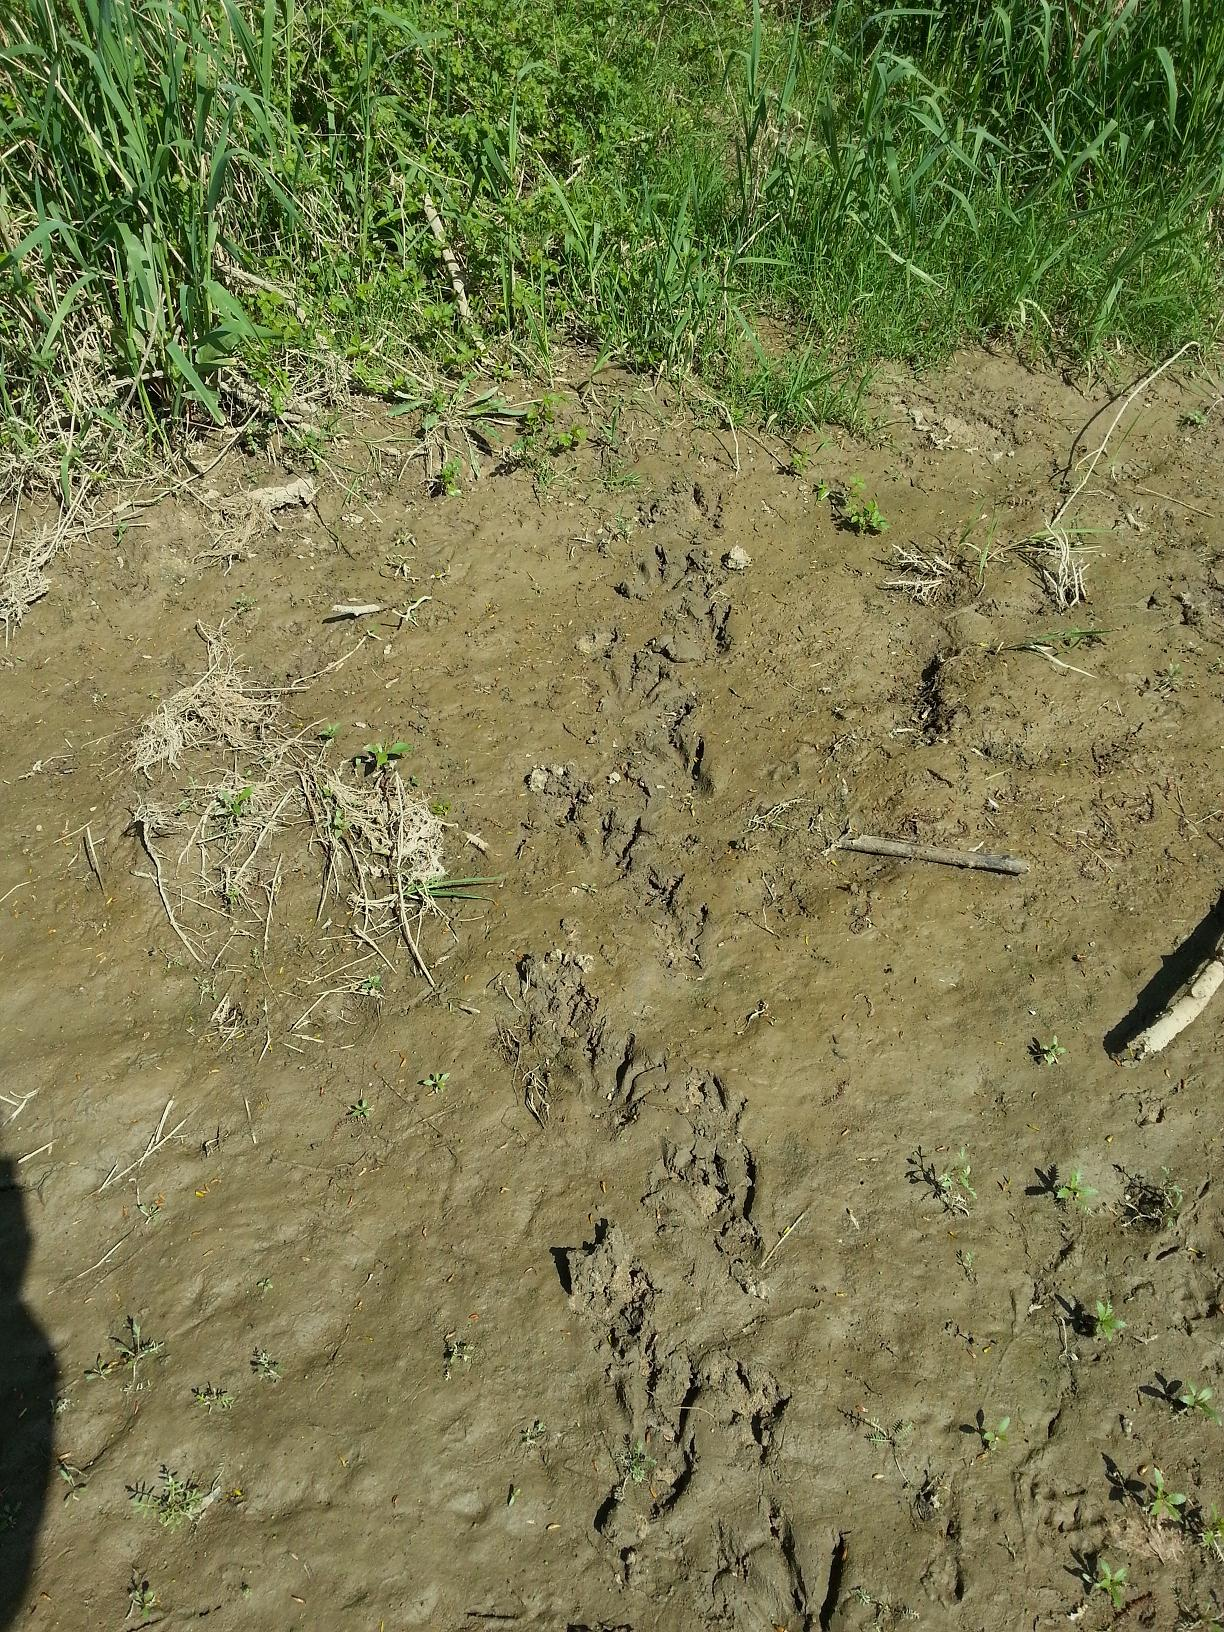beaver: (496, 961, 645, 1150), (581, 1340, 710, 1542), (561, 812, 712, 951)
